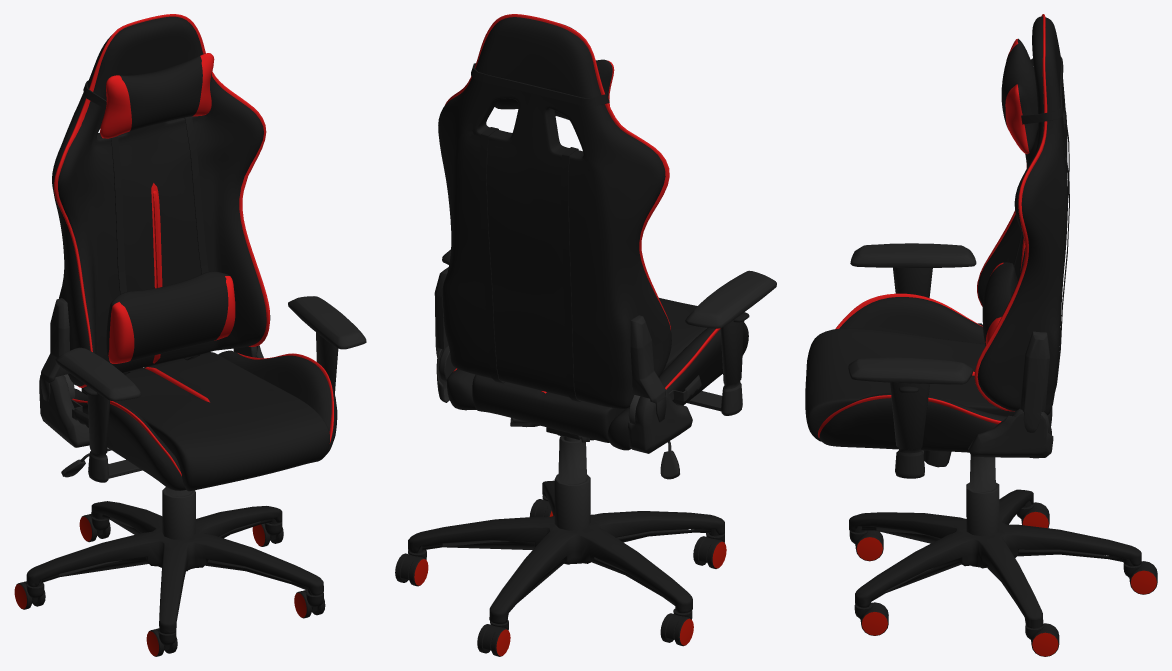
File: gaming_chair.glb
3 renders of one model, left to right at view 1: azimuth 30°, elevation 25°; view 2: azimuth 150°, elevation 25°; view 3: azimuth 270°, elevation 25°, orthographic. The views are drawn at different scales.
Visible parts, largest first — view 1: Mesh30 skp7AF7_1 Model, Mesh32 skp7AF7_1 Model, Mesh1 skp7AF7_1 Model, Mesh40 skp7AF7_1 Model, Mesh41 skp7AF7_1 Model, Mesh35 skp7AF7_1 Model, Mesh33 skp7AF7_1 Model, Mesh13 skp7AF7_1 Model, Mesh42 skp7AF7_1 Model, Mesh14 skp7AF7_1 Model, Mesh15 skp7AF7_1 Model, Mesh20 skp7AF7_1 Model (+5 smaller); view 2: Mesh30 skp7AF7_1 Model, Mesh1 skp7AF7_1 Model, Mesh32 skp7AF7_1 Model, Mesh42 skp7AF7_1 Model, Mesh35 skp7AF7_1 Model, Mesh57 skp7AF7_1 Model, Mesh14 skp7AF7_1 Model, Mesh20 skp7AF7_1 Model, Mesh24 skp7AF7_1 Model, Mesh18 skp7AF7_1 Model, Mesh13 skp7AF7_1 Model, Mesh33 skp7AF7_1 Model (+6 smaller); view 3: Mesh30 skp7AF7_1 Model, Mesh1 skp7AF7_1 Model, Mesh32 skp7AF7_1 Model, Mesh33 skp7AF7_1 Model, Mesh35 skp7AF7_1 Model, Mesh41 skp7AF7_1 Model, Mesh16 skp7AF7_1 Model, Mesh15 skp7AF7_1 Model, Mesh14 skp7AF7_1 Model, Mesh26 skp7AF7_1 Model, Mesh57 skp7AF7_1 Model, Mesh29 skp7AF7_1 Model (+11 smaller).
Boxes of the visible parts, left/top/right/bottom form: Mesh30 skp7AF7_1 Model: left=52, top=16, right=270, bottom=386; Mesh32 skp7AF7_1 Model: left=81, top=352, right=329, bottom=491; Mesh1 skp7AF7_1 Model: left=26, top=501, right=323, bottom=633; Mesh40 skp7AF7_1 Model: left=106, top=271, right=235, bottom=363; Mesh41 skp7AF7_1 Model: left=100, top=53, right=214, bottom=138; Mesh35 skp7AF7_1 Model: left=74, top=388, right=186, bottom=490; Mesh33 skp7AF7_1 Model: left=218, top=350, right=337, bottom=454; Mesh13 skp7AF7_1 Model: left=54, top=14, right=269, bottom=387; Mesh42 skp7AF7_1 Model: left=83, top=74, right=211, bottom=374; Mesh14 skp7AF7_1 Model: left=55, top=347, right=141, bottom=401; Mesh15 skp7AF7_1 Model: left=288, top=296, right=366, bottom=349; Mesh20 skp7AF7_1 Model: left=39, top=375, right=89, bottom=447; Mesh30 skp7AF7_1 Model: left=438, top=17, right=671, bottom=408; Mesh1 skp7AF7_1 Model: left=408, top=480, right=724, bottom=623; Mesh32 skp7AF7_1 Model: left=472, top=298, right=706, bottom=442; Mesh42 skp7AF7_1 Model: left=471, top=63, right=609, bottom=401; Mesh35 skp7AF7_1 Model: left=607, top=322, right=748, bottom=450; Mesh57 skp7AF7_1 Model: left=554, top=436, right=590, bottom=530; Mesh14 skp7AF7_1 Model: left=685, top=270, right=776, bottom=328; Mesh20 skp7AF7_1 Model: left=628, top=389, right=692, bottom=453; Mesh24 skp7AF7_1 Model: left=630, top=315, right=666, bottom=422; Mesh18 skp7AF7_1 Model: left=720, top=320, right=744, bottom=415; Mesh13 skp7AF7_1 Model: left=445, top=14, right=670, bottom=329; Mesh33 skp7AF7_1 Model: left=447, top=369, right=476, bottom=410; Mesh30 skp7AF7_1 Model: left=977, top=16, right=1067, bottom=415; Mesh1 skp7AF7_1 Model: left=849, top=489, right=1141, bottom=627; Mesh32 skp7AF7_1 Model: left=805, top=328, right=1052, bottom=441; Mesh33 skp7AF7_1 Model: left=819, top=393, right=1051, bottom=458; Mesh35 skp7AF7_1 Model: left=839, top=297, right=984, bottom=343; Mesh41 skp7AF7_1 Model: left=1001, top=38, right=1038, bottom=154; Mesh16 skp7AF7_1 Model: left=890, top=382, right=929, bottom=478; Mesh15 skp7AF7_1 Model: left=848, top=357, right=972, bottom=384; Mesh14 skp7AF7_1 Model: left=850, top=243, right=976, bottom=267; Mesh26 skp7AF7_1 Model: left=968, top=412, right=1053, bottom=457; Mesh57 skp7AF7_1 Model: left=966, top=455, right=999, bottom=536; Mesh29 skp7AF7_1 Model: left=1020, top=331, right=1049, bottom=432.
Size of the model in its own units: 2650 by 5308 by 2990.
